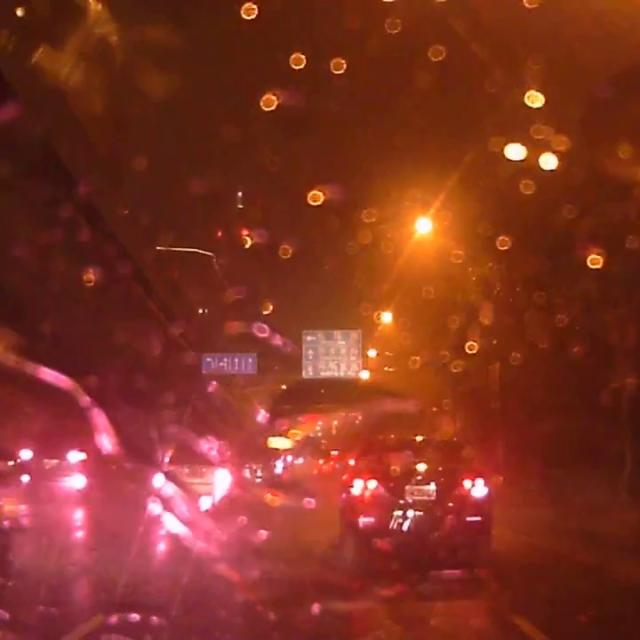Car: (335, 432, 497, 574), (10, 426, 106, 504), (149, 436, 238, 511)
